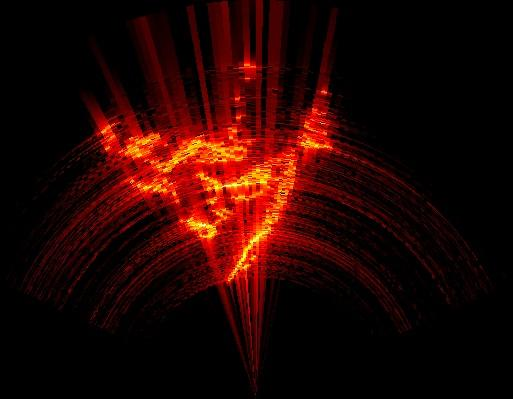shipwreck: (97, 66, 332, 273)
